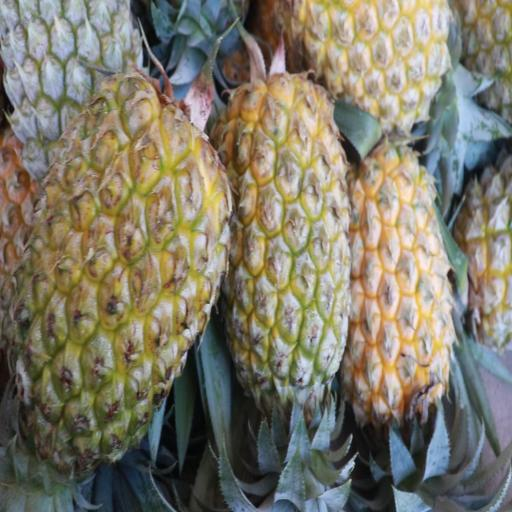Pineapple - v8 v1: (18, 94, 224, 455), (224, 78, 348, 390), (348, 140, 454, 410), (291, 0, 450, 124)
